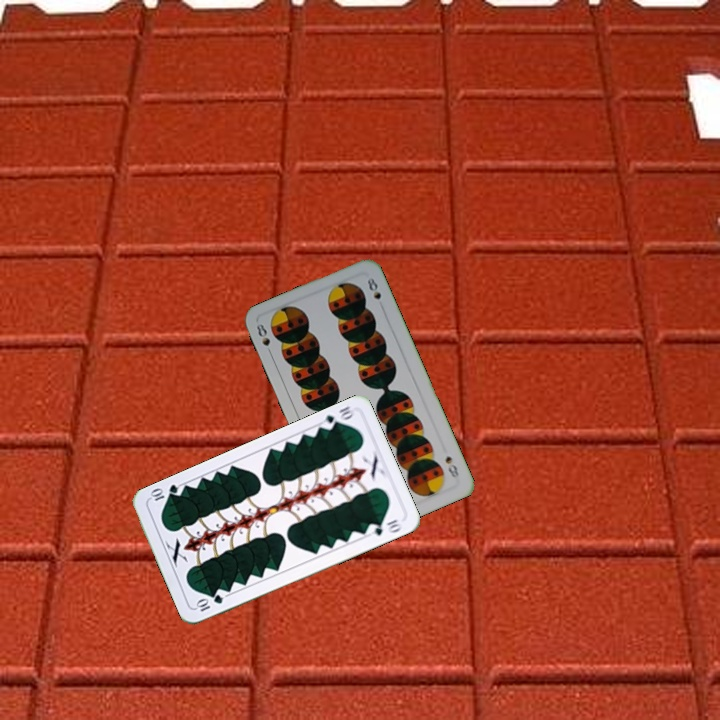G10: (317, 402, 358, 432), (192, 590, 226, 614)
S8: (252, 319, 275, 358), (441, 451, 462, 480)
